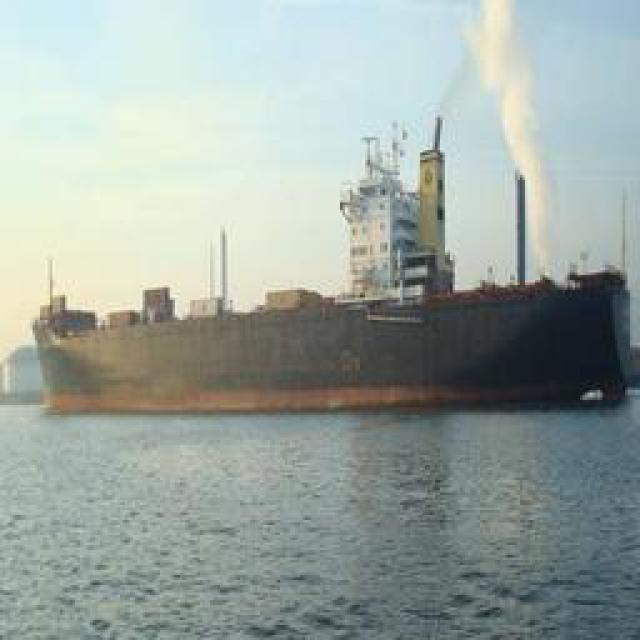Ship: (12, 257, 635, 420)
